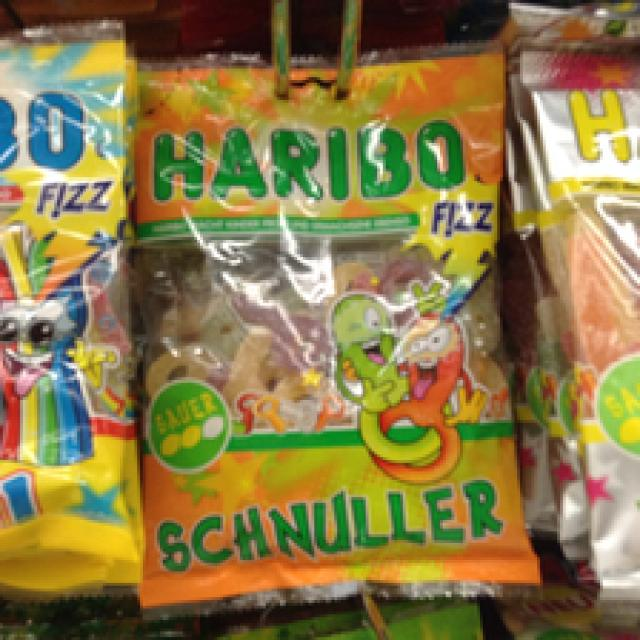groceries: (134, 43, 540, 594), (0, 8, 154, 580)
